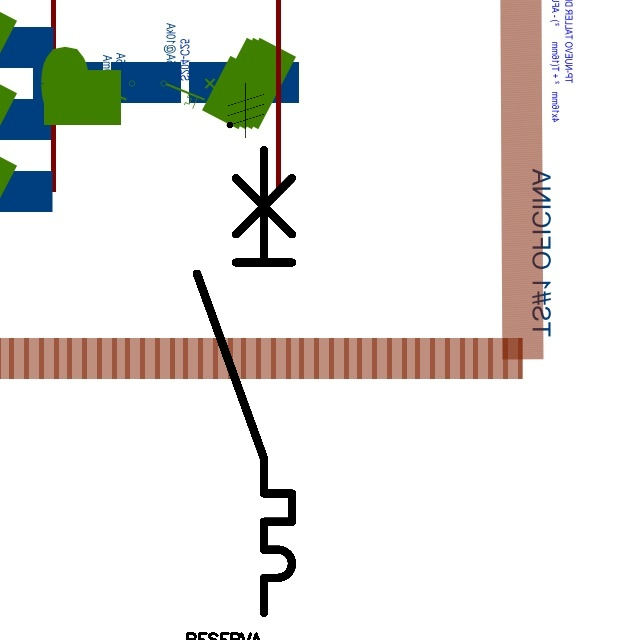interruptor_termomagnetico: (185, 138, 304, 625)
